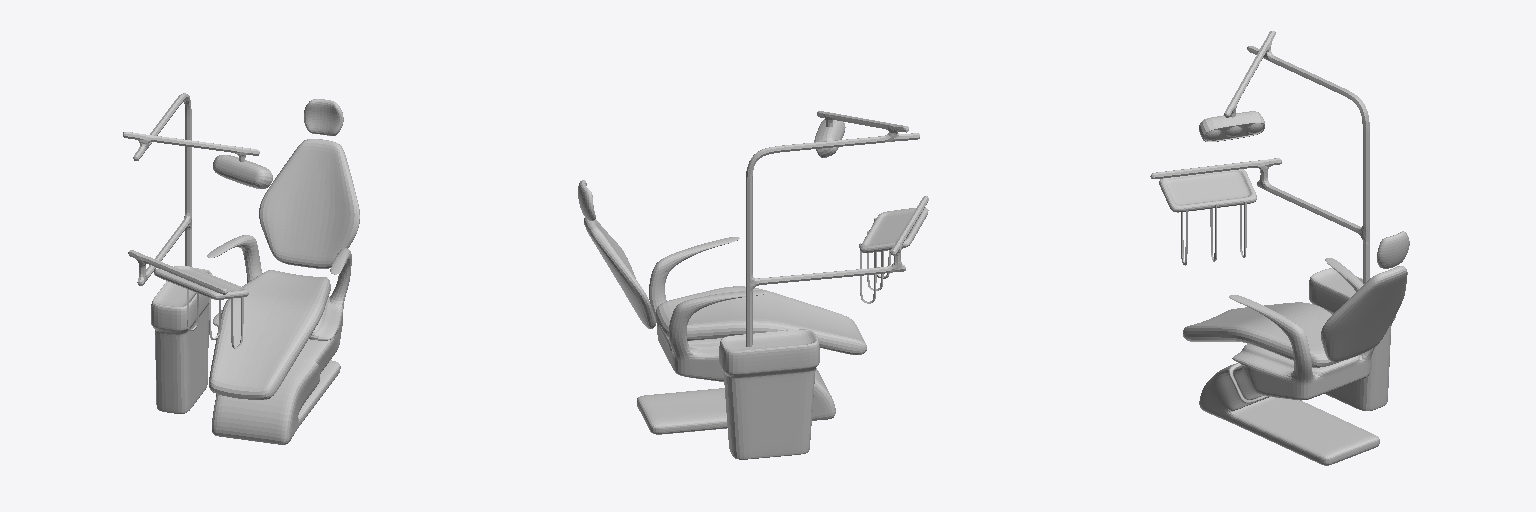
File: chair.obj
The picture shows the model from 3 angles: view 1: azimuth 30°, elevation 25°; view 2: azimuth 150°, elevation 25°; view 3: azimuth 270°, elevation 25°; orthographic projection.
Visible parts, largest first — view 1: Plane.003; view 2: Plane.003; view 3: Plane.003.
Boxes of the visible parts, <box> form: Plane.003: <box>123,93,359,444</box>; Plane.003: <box>578,111,928,459</box>; Plane.003: <box>1150,31,1409,465</box>.
Bounding box in the file's own units: 14.95 × 16.59 × 12.21.